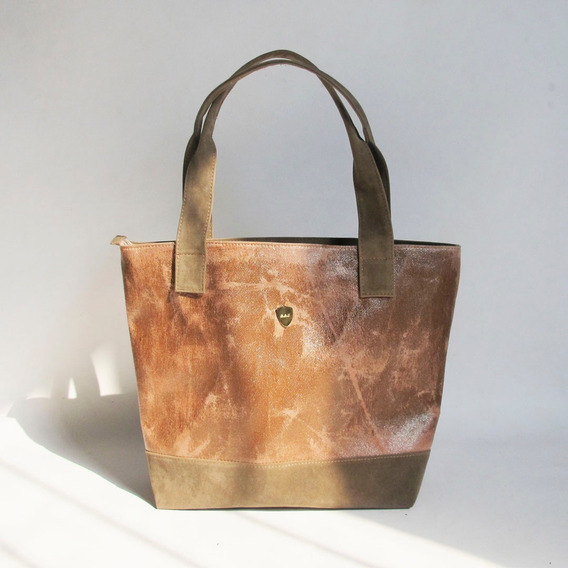cartera: (112, 49, 462, 512)
